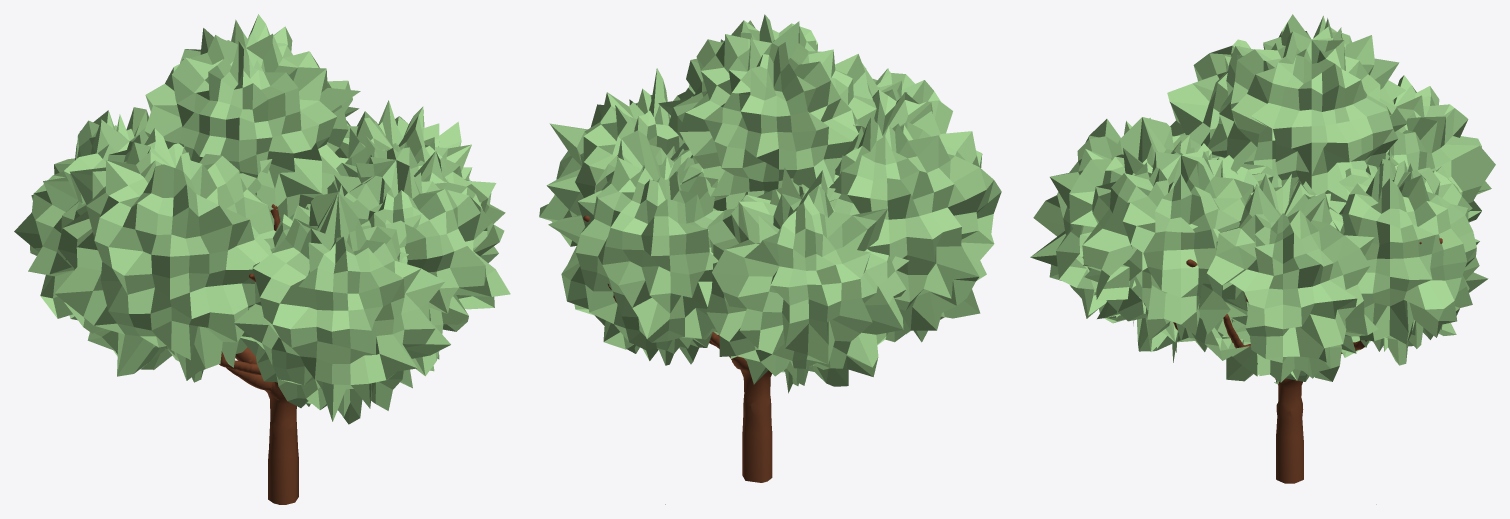
The model's file is arbolSalidaOk.fbx.
3 views of the same model, side by side, from view 1: azimuth 30°, elevation 25°; view 2: azimuth 150°, elevation 25°; view 3: azimuth 270°, elevation 25° (orthographic). The views are drawn at different scales.
Parts seen in each view (by area): view 1: Sphere, Cube; view 2: Sphere, Cube; view 3: Sphere, Cube.
Part boxes in pixels (x1=…): Sphere: x1=14, y1=14, x2=510, y2=424; Cube: x1=219, y1=204, x2=298, y2=504; Sphere: x1=539, y1=14, x2=1001, y2=393; Cube: x1=583, y1=215, x2=772, y2=504; Sphere: x1=1030, y1=14, x2=1495, y2=384; Cube: x1=1173, y1=238, x2=1442, y2=504.
Bounding box in the file's own units: 2.31 × 2.45 × 2.31.
